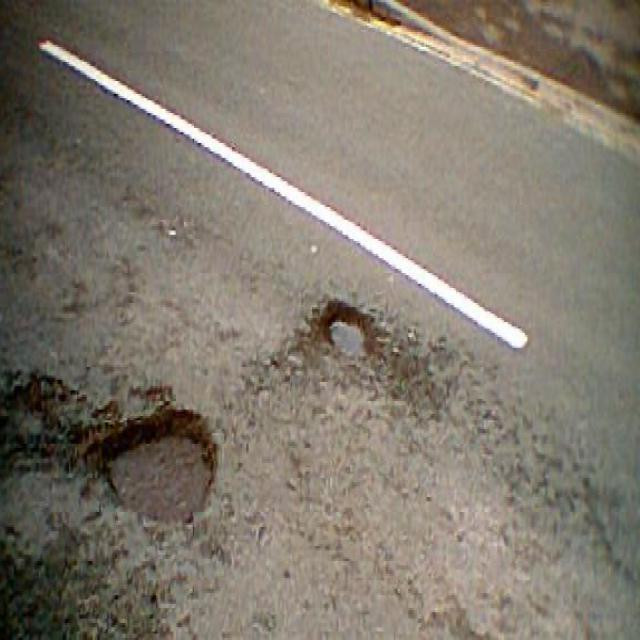pothole: (101, 404, 219, 534), (319, 294, 377, 369)
